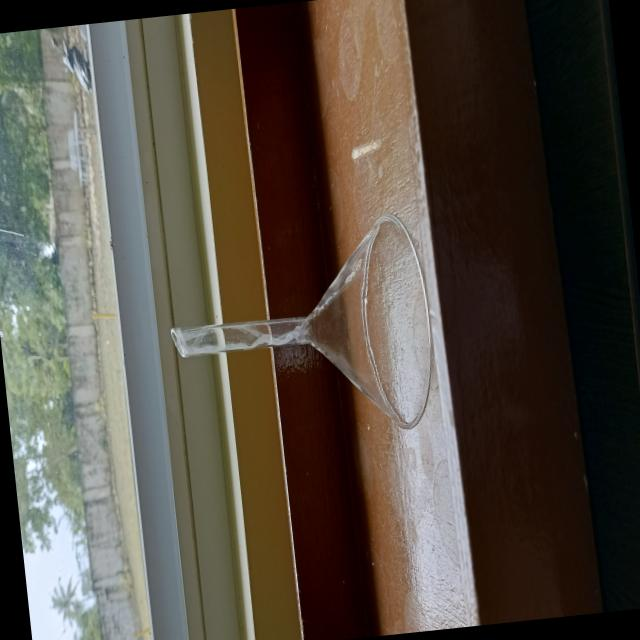funnel: (158, 192, 446, 474)
